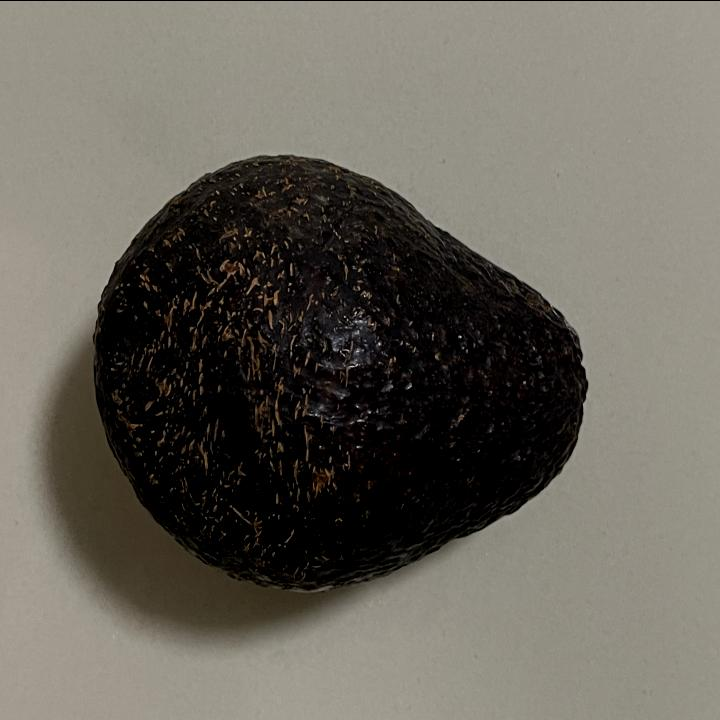Level3: (88, 143, 594, 599)
